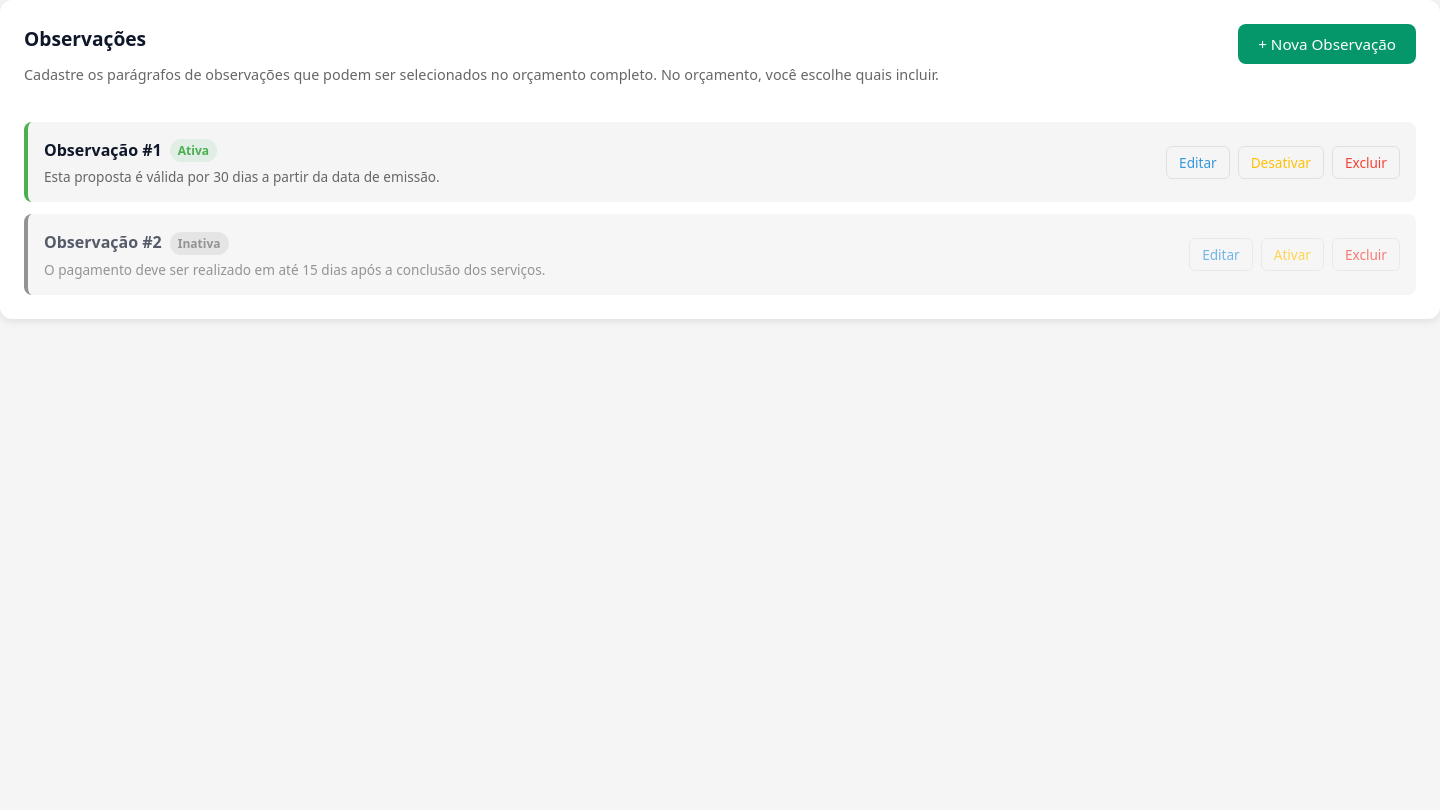
Scenario: LimitacoesTab › Criar nova limitação › deve habilitar botão Cadastrar quando texto tem 20+ caracteres
Click the button "+ Nova Observação". click: (1327, 44)
box: [1238, 24, 1416, 64]
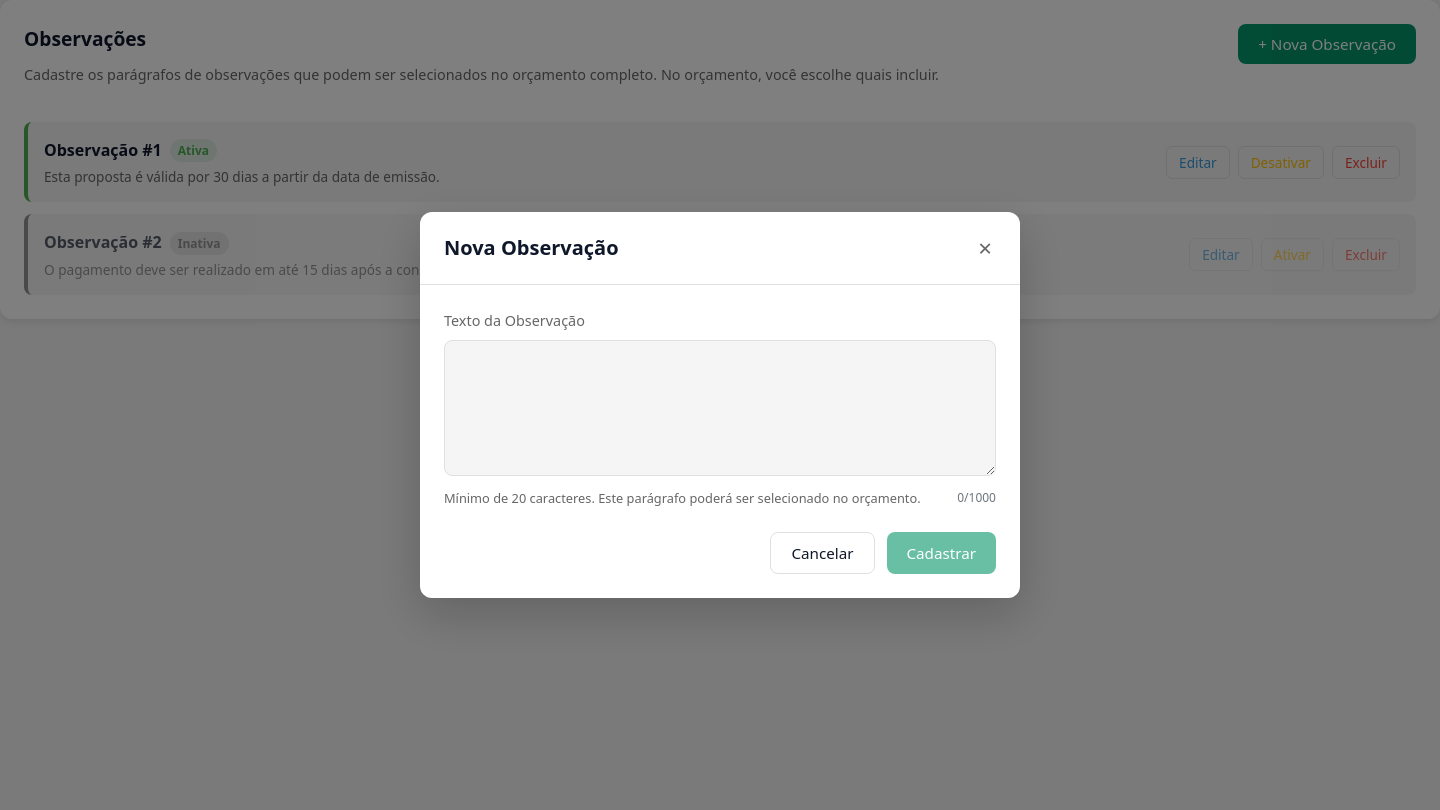
Expected: the heading "Nova Observação" is shown, [444, 232, 618, 264]
Type "Este texto tem mais de vinte caracteres para teste" into the text box. click: (720, 408)
box: [444, 340, 996, 476]
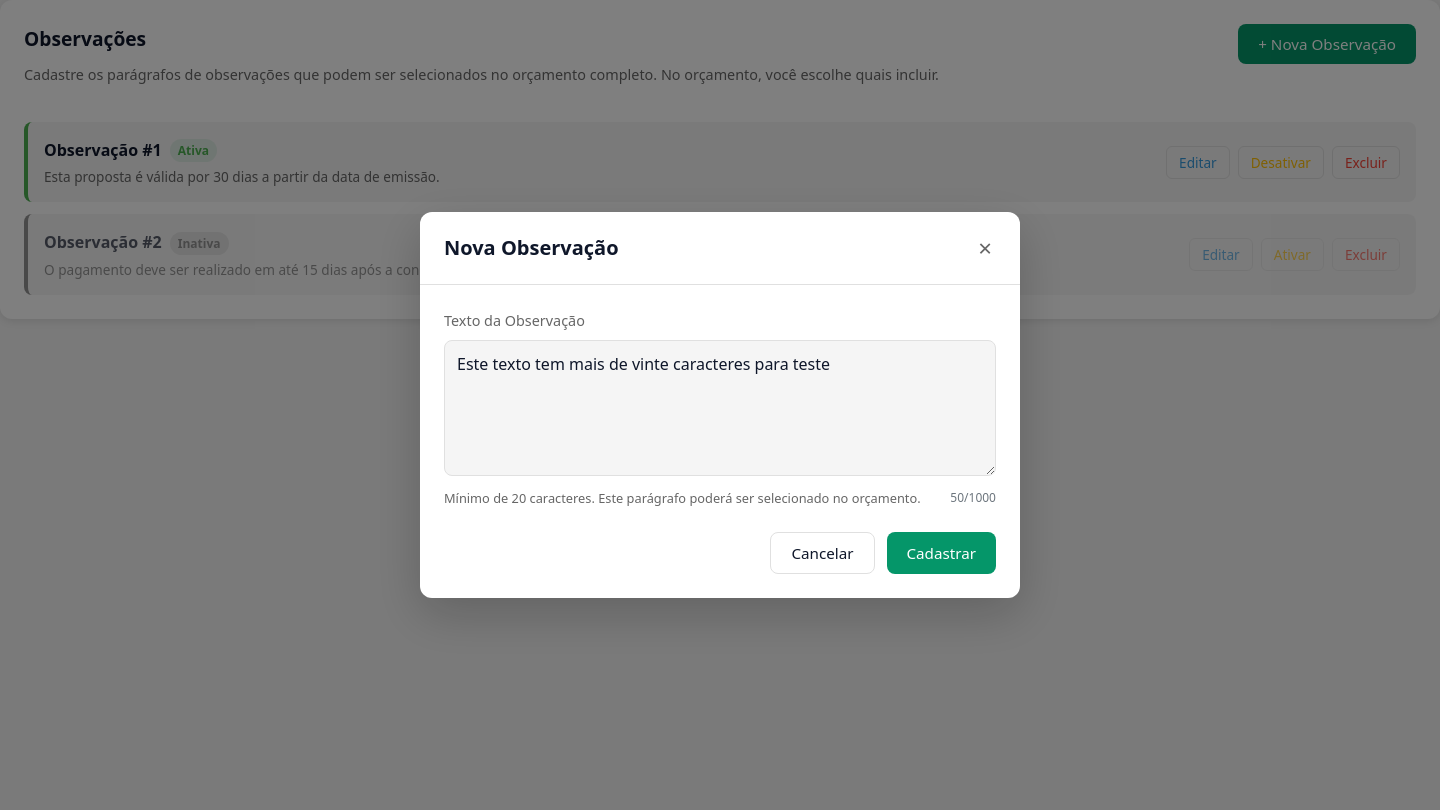
Expected: the button "Cadastrar" is enabled, [886, 532, 996, 574]
